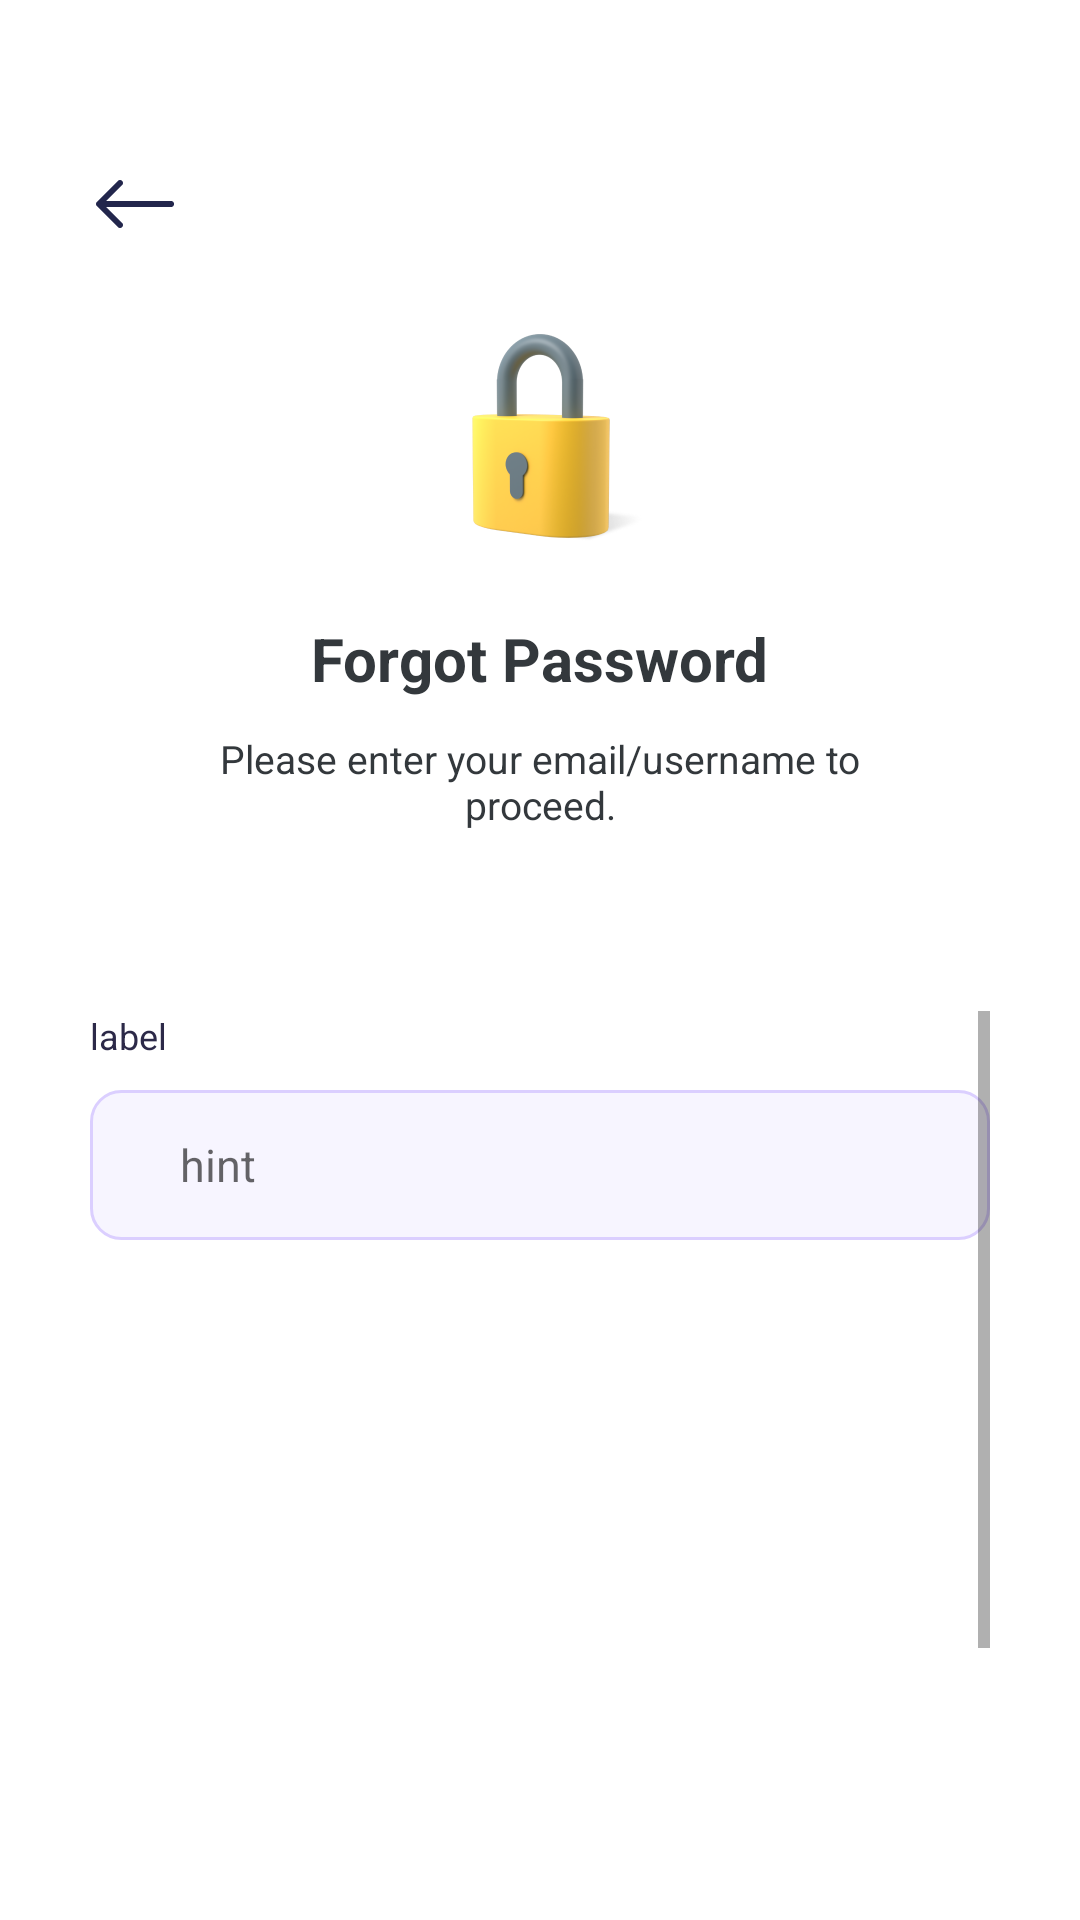

Icon click points for this 1080x1920 phone screenshot, format (x,y):
arrow left: (135,204)
lock: (543,436)
